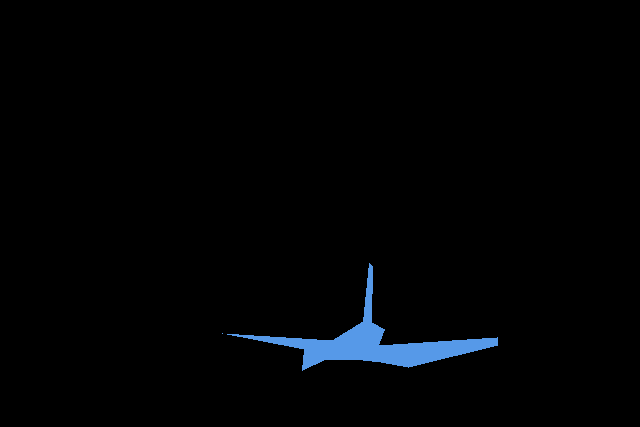Airplane: (222, 263, 497, 370)
